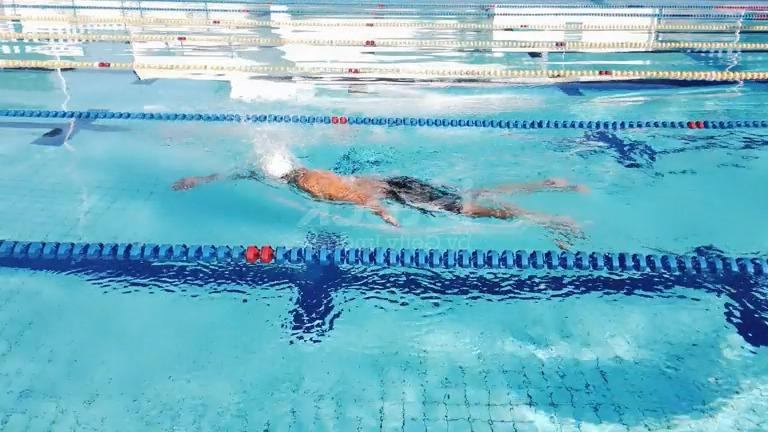Swimming: (153, 117, 597, 226)
